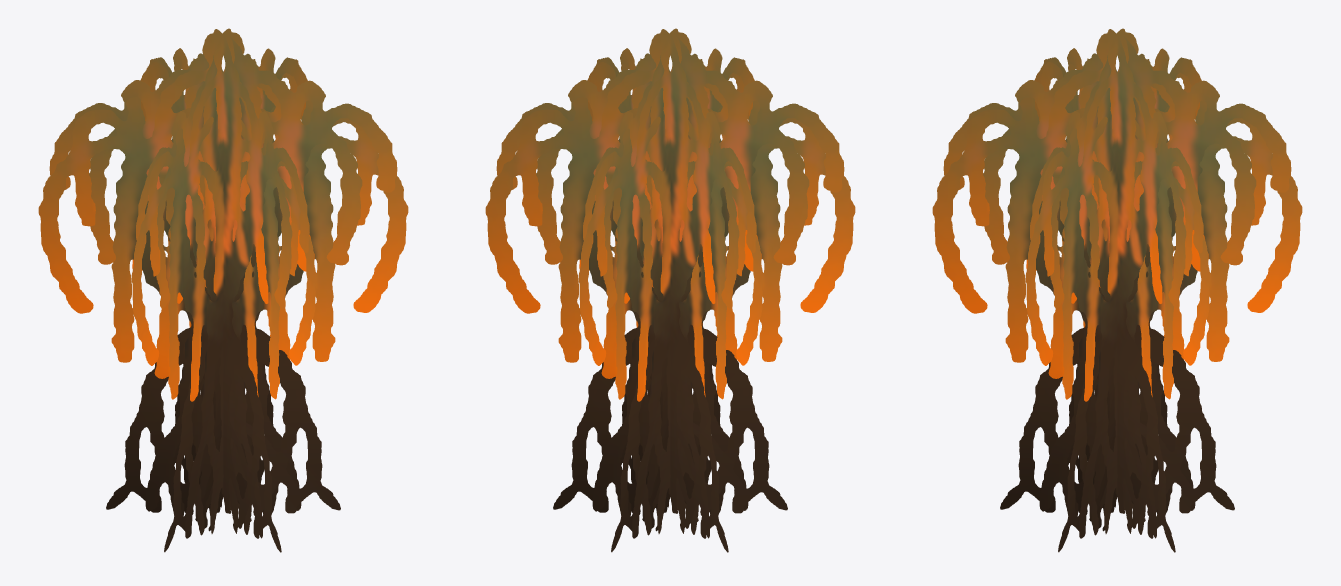
File: HP3_weed083 1.fbx
3 renders of one model, left to right at view 1: azimuth 30°, elevation 25°; view 2: azimuth 150°, elevation 25°; view 3: azimuth 270°, elevation 25°, orthographic.
Visible parts, largest first — view 1: HP3_weed083; view 2: HP3_weed083; view 3: HP3_weed083.
Boxes of the visible parts, x1,y1,x2,y2 form: HP3_weed083: (38, 28, 408, 552); HP3_weed083: (485, 28, 855, 552); HP3_weed083: (932, 28, 1302, 552).
Size of the model in its own units: 6.22 by 10.09 by 7.17.
